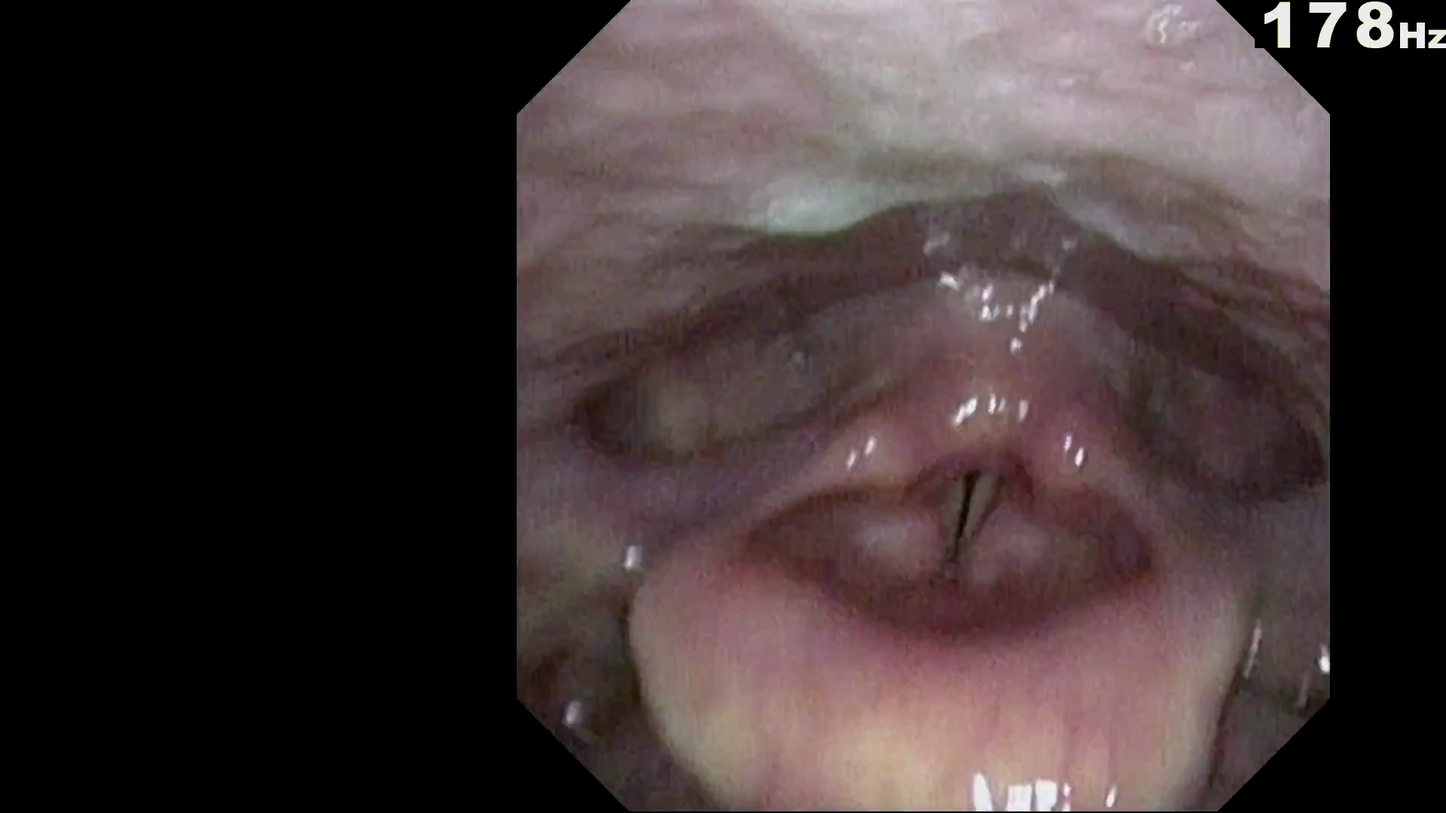epiglottis: (649, 458, 1221, 649)
trachea: (884, 414, 1039, 496)
